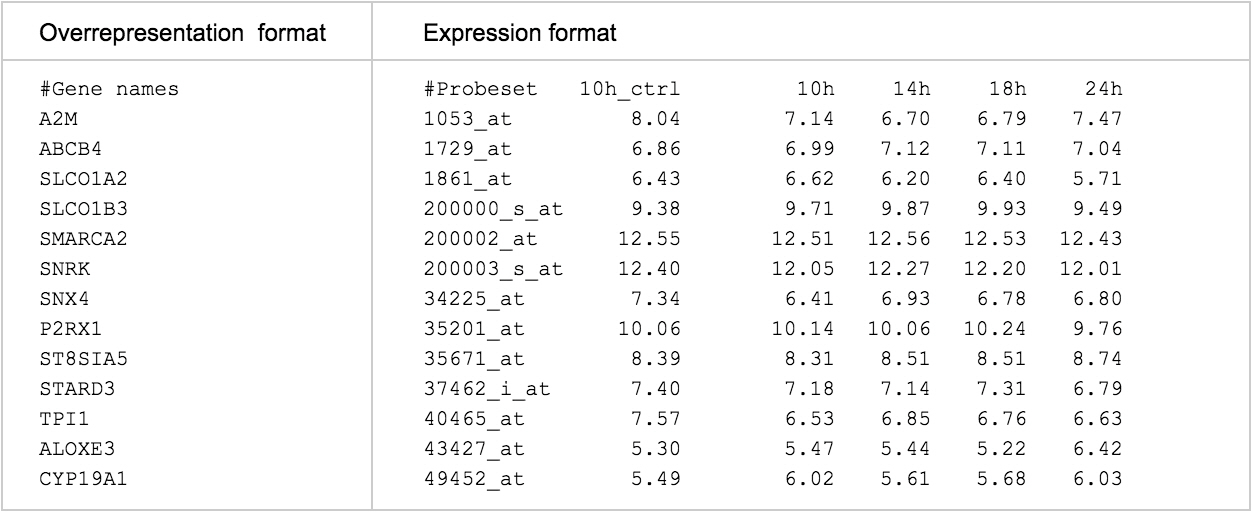table: (2, 1, 1248, 514)
